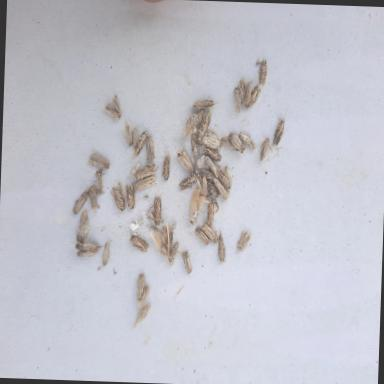pbw: (188, 188, 206, 226), (196, 106, 212, 142), (200, 222, 224, 244), (110, 182, 127, 213), (149, 191, 163, 227), (227, 132, 246, 158), (72, 188, 89, 216), (132, 303, 150, 329), (104, 95, 122, 121), (203, 199, 219, 228), (178, 170, 200, 191), (134, 163, 158, 182), (270, 116, 284, 148), (158, 150, 172, 182), (216, 166, 234, 190), (132, 130, 147, 158), (212, 177, 230, 200), (236, 228, 252, 253), (176, 250, 192, 275), (201, 143, 222, 162), (176, 150, 194, 172), (76, 210, 90, 238), (123, 180, 136, 210), (87, 152, 110, 168), (243, 76, 255, 106), (238, 132, 258, 150), (166, 238, 178, 268), (198, 135, 222, 150), (134, 176, 156, 192), (94, 168, 107, 195), (217, 227, 227, 262), (204, 155, 219, 178), (232, 82, 243, 113), (129, 235, 149, 252), (144, 134, 156, 162), (259, 137, 273, 161), (194, 226, 210, 246), (88, 185, 100, 210), (101, 239, 112, 266), (184, 114, 196, 138), (138, 284, 150, 308), (193, 108, 204, 134), (192, 100, 220, 110), (220, 136, 237, 152), (205, 180, 220, 198), (190, 133, 200, 160), (123, 122, 134, 146), (195, 176, 207, 198), (136, 273, 144, 301), (238, 78, 246, 105), (250, 88, 262, 106), (258, 60, 266, 86), (200, 168, 216, 180), (130, 126, 138, 150), (76, 250, 96, 258)
